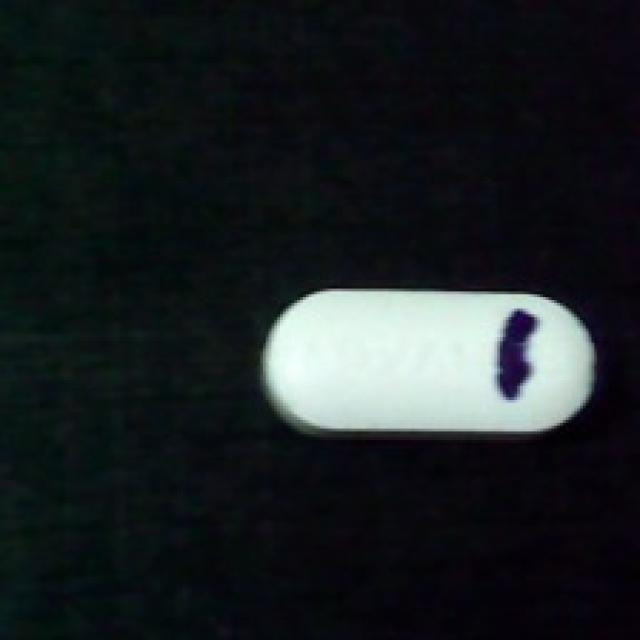defected: (257, 280, 603, 443)
